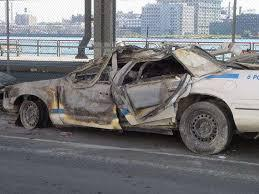doorouter-dent: (118, 79, 175, 125), (58, 78, 110, 127)
roof-dent: (107, 44, 179, 61)
